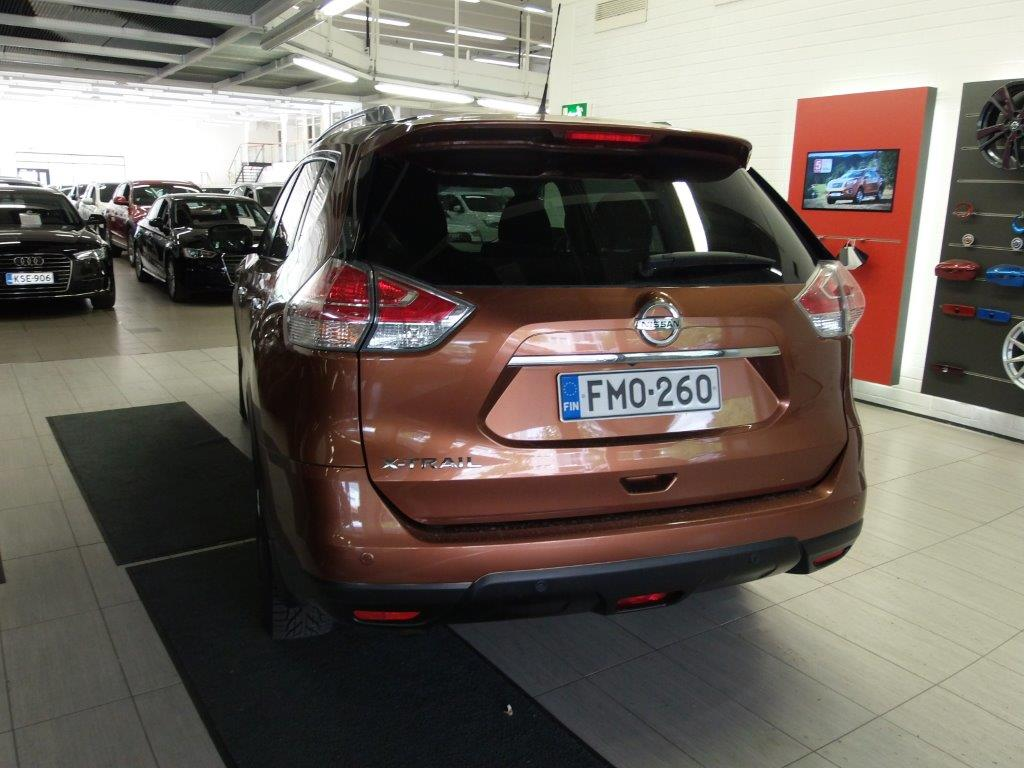license: (556, 361, 725, 421)
